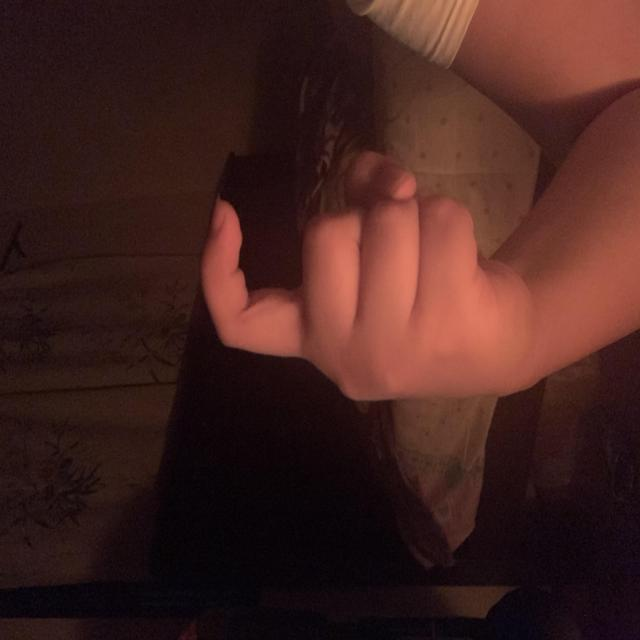X: (148, 197, 403, 528)
